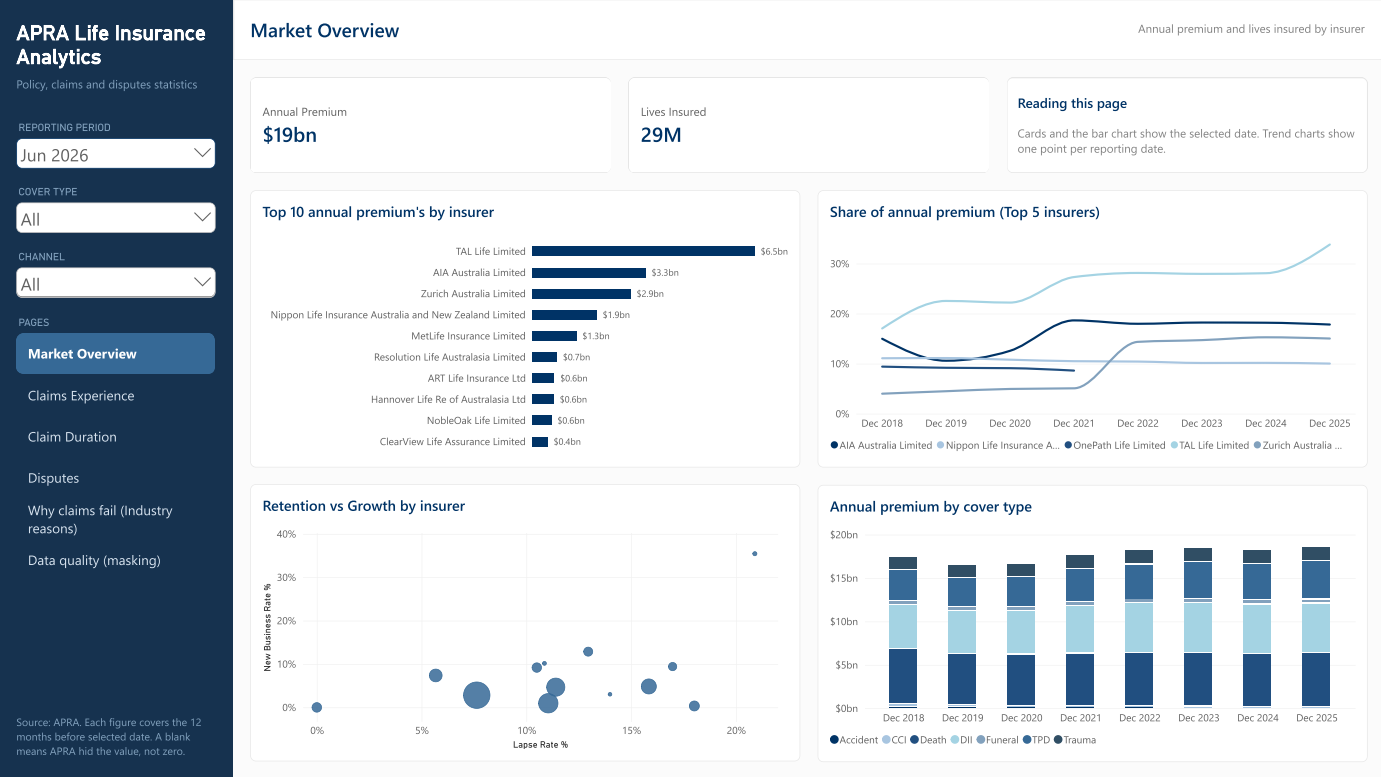

The dashboard page shown, as its layout file describes it:
{"tool":"powerbi","page":{"name":"Market Overview","canvas":[1920,1080],"ordinal":0},"visuals":[{"type":"shape","box":[0,0,324.3,1080.4],"z":0,"group":"g2"},{"type":"shape","box":[324.6,0,1595.7,83.7],"z":1000,"group":"g2"},{"type":"textbox","box":[348.3,4,215.2,74.4],"z":2000,"group":"g2"},{"type":"slicer","fields":{"Values":["dim_date.period_label"]},"box":[19,168.8,286,66.4],"z":3000,"group":"g2"},{"type":"cardVisual","fields":{"Data":["Measures (2).Annual Premium"]},"box":[348.2,108,500,132],"z":4000},{"type":"slicer","fields":{"Values":["dim_cover.cover_name"]},"box":[19,258,286,66],"z":4000,"group":"g2"},{"type":"cardVisual","fields":{"Data":["Measures (2).Lives Insured"]},"box":[872,108,500,132],"z":5000},{"type":"barChart","title":"Top 10 insurers by annual premium","fields":{"Category":["dim_company.company_name"],"Y":["Measures (2).Annual Premium"]},"box":[348,264,762,384],"z":6000},{"type":"textbox","box":[27,437,52,20.2],"z":6000,"group":"g2"},{"type":"slicer","fields":{"Values":["dim_channel.channel_name"]},"box":[19,348,286,66],"z":7000,"group":"g2"},{"type":"columnChart","title":"Annual premium by cover type","fields":{"Category":["dim_date.period_label"],"Series":["dim_cover.cover_name"],"Y":["Measures (2).Annual Premium"]},"box":[1134,672,762,384],"z":7000},{"type":"textbox","box":[23.9,29.2,276.4,111.6],"z":8000,"group":"g2"},{"type":"lineChart","title":"Share of annual premium (top 8 insurers)","fields":{"Category":["dim_date.period_label"],"Series":["dim_company.company_name"],"Y":["Measures (2).Premium Share"]},"box":[1134,264,762,384],"z":8000},{"type":"textbox","box":[23.9,106,276.4,22.6],"z":9000,"group":"g2"},{"type":"scatterChart","title":"Retention vs growth by insurer","fields":{"Category":["dim_company.company_name"],"Size":["Measures (2).Annual Premium"],"X":["Measures (2).Lapse Rate %"],"Y":["Measures (2).New Business Rate %"]},"box":[348,671.1,762,384],"z":9000},{"type":"group","id":"g1","title":"Group 1","box":[1396,108,500,132],"z":10000},{"type":"textbox","box":[23.9,990,276.4,65.1],"z":10000,"group":"g2"},{"type":"shape","box":[1396,108,500,132],"z":11000,"group":"g1"},{"type":"pageNavigator","box":[24,462.2,276.4,345.5],"z":11000,"group":"g2"},{"type":"textbox","box":[1396,108,500,132],"z":12000,"group":"g1"},{"type":"group","id":"g2","title":"Group 2","box":[0,0,1920.3,1080.4],"z":15001}]}

Visuals, with their boxes on the page's 1920x1080 design canvas (x1, y1, x2, y2). These are canvas units, not pixel positions in the 1381x777 screenshot, which may show the page scaled, cropped or inside an application window:
shape: crop(0, 0, 324, 1080)
shape: crop(325, 0, 1920, 84)
textbox: crop(348, 4, 564, 78)
slicer - dim_date.period_label: crop(19, 169, 305, 235)
cardVisual - Measures (2).Annual Premium: crop(348, 108, 848, 240)
slicer - dim_cover.cover_name: crop(19, 258, 305, 324)
cardVisual - Measures (2).Lives Insured: crop(872, 108, 1372, 240)
"Top 10 insurers by annual premium" barChart: crop(348, 264, 1110, 648)
textbox: crop(27, 437, 79, 457)
slicer - dim_channel.channel_name: crop(19, 348, 305, 414)
"Annual premium by cover type" columnChart: crop(1134, 672, 1896, 1056)
textbox: crop(24, 29, 300, 141)
"Share of annual premium (top 8 insurers)" lineChart: crop(1134, 264, 1896, 648)
textbox: crop(24, 106, 300, 129)
"Retention vs growth by insurer" scatterChart: crop(348, 671, 1110, 1055)
"Group 1" group: crop(1396, 108, 1896, 240)
textbox: crop(24, 990, 300, 1055)
shape: crop(1396, 108, 1896, 240)
pageNavigator: crop(24, 462, 300, 808)
textbox: crop(1396, 108, 1896, 240)
"Group 2" group: crop(0, 0, 1920, 1080)
